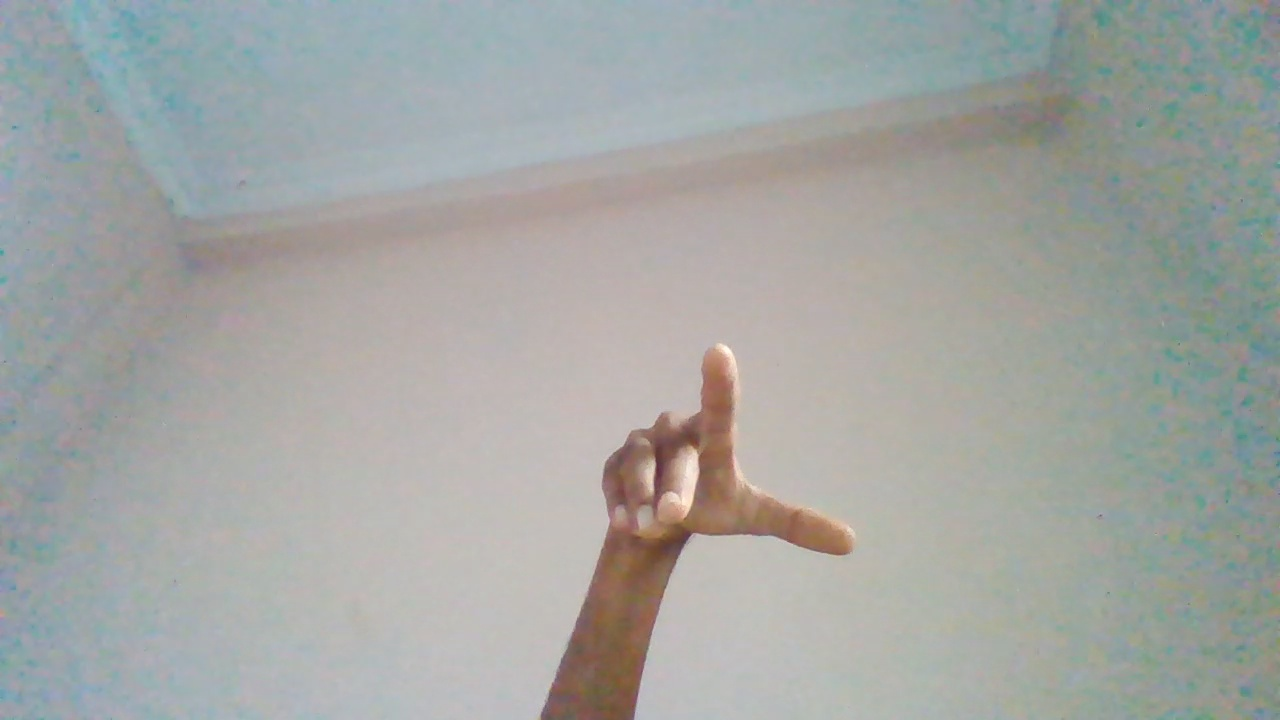ke: (580, 346, 862, 694)
